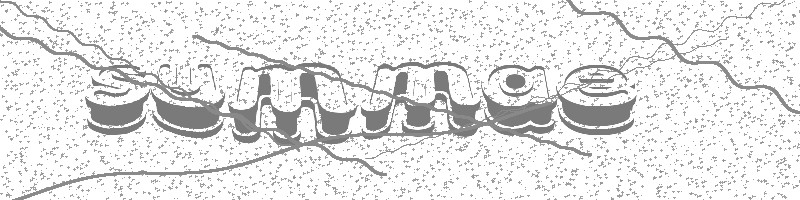a: (481, 59, 559, 136)
e: (557, 61, 637, 137)
m: (228, 59, 357, 147), (359, 58, 482, 140)
s: (83, 59, 150, 138)
u: (150, 61, 227, 141)
